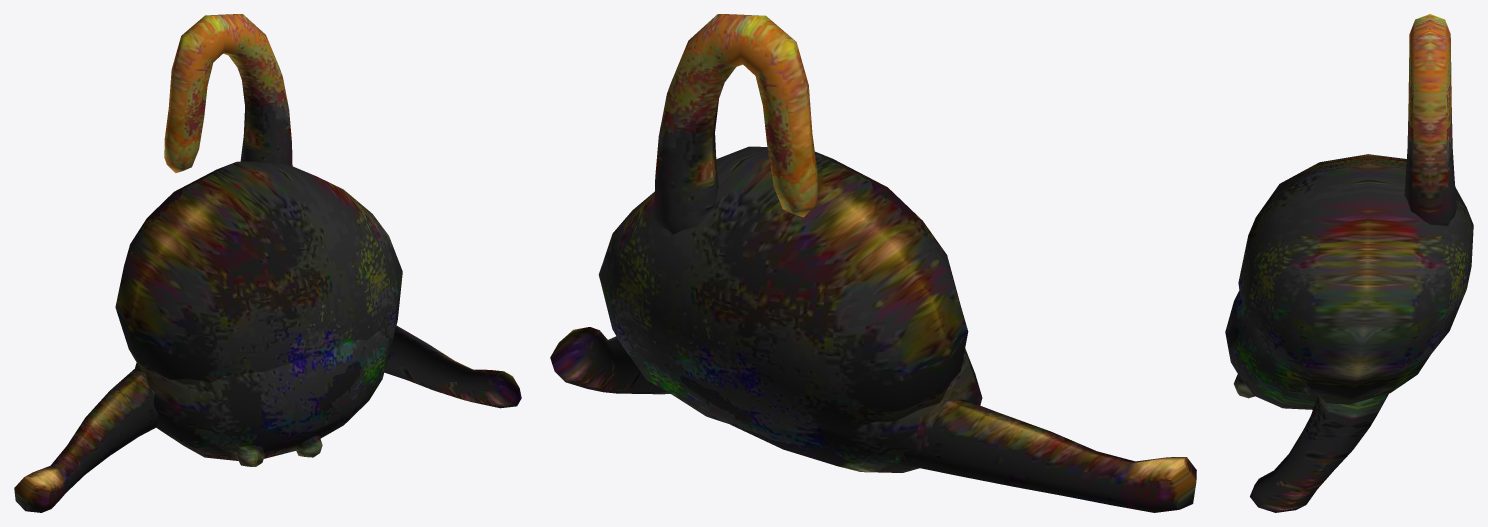
Rendered from black car.fbx.
3 views of the same model, side by side, from view 1: azimuth 30°, elevation 25°; view 2: azimuth 150°, elevation 25°; view 3: azimuth 270°, elevation 25° (orthographic). The views are drawn at different scales.
Parts seen in each view (by area): view 1: Cube.007; view 2: Cube.007; view 3: Cube.007.
Boxes of the visible parts, x1=… form: Cube.007: x1=14, y1=14, x2=521, y2=512; Cube.007: x1=550, y1=14, x2=1196, y2=512; Cube.007: x1=1225, y1=14, x2=1473, y2=512.
Bounding box in the file's own units: 350 × 263 × 151.
